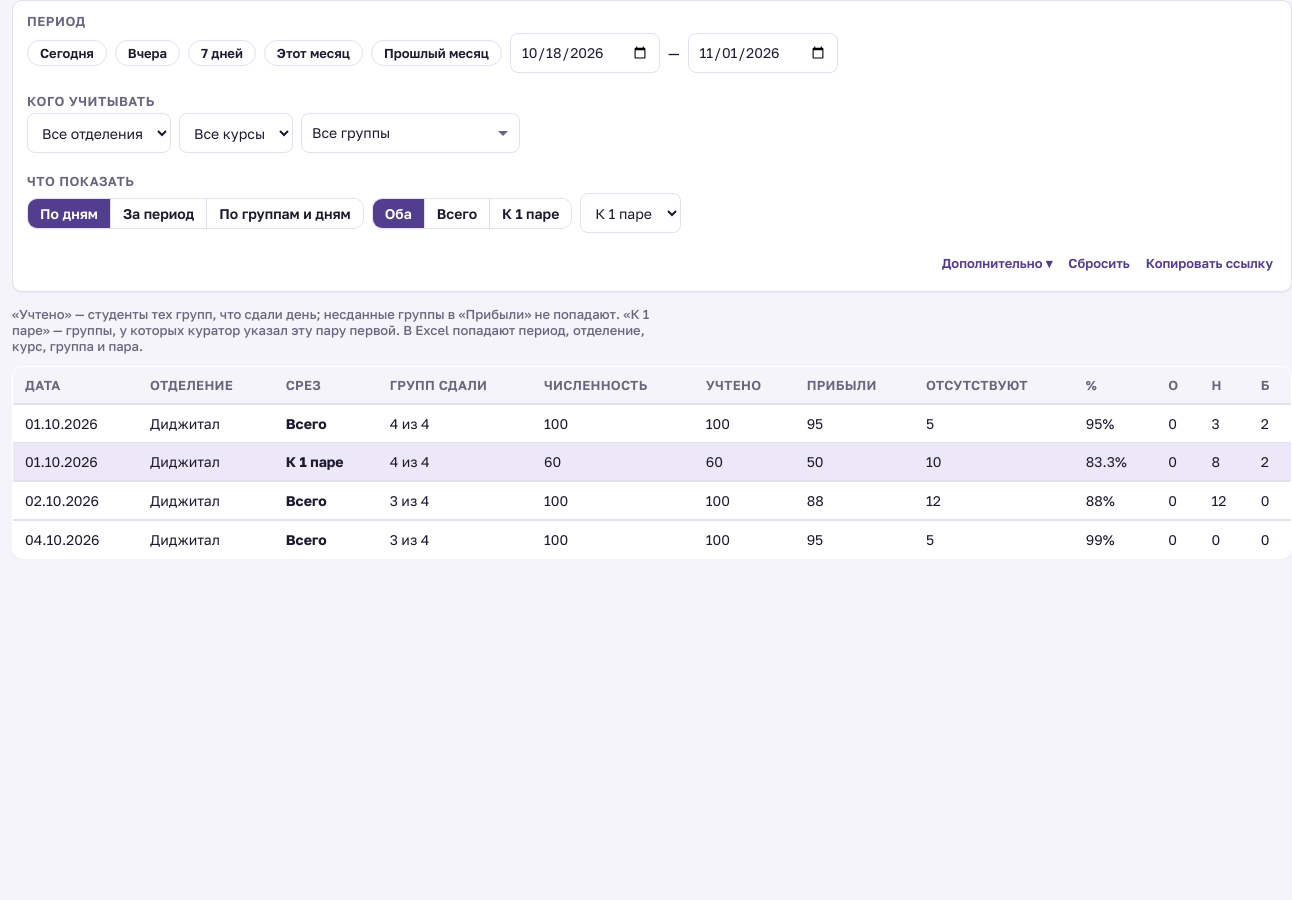
Test case: AttendanceSummaryView — отбор строк на экране › «Скрыть строки без данных» можно выключить
Click the button "Дополнительно ▾" at (997, 263), box [938,253,1056,273]
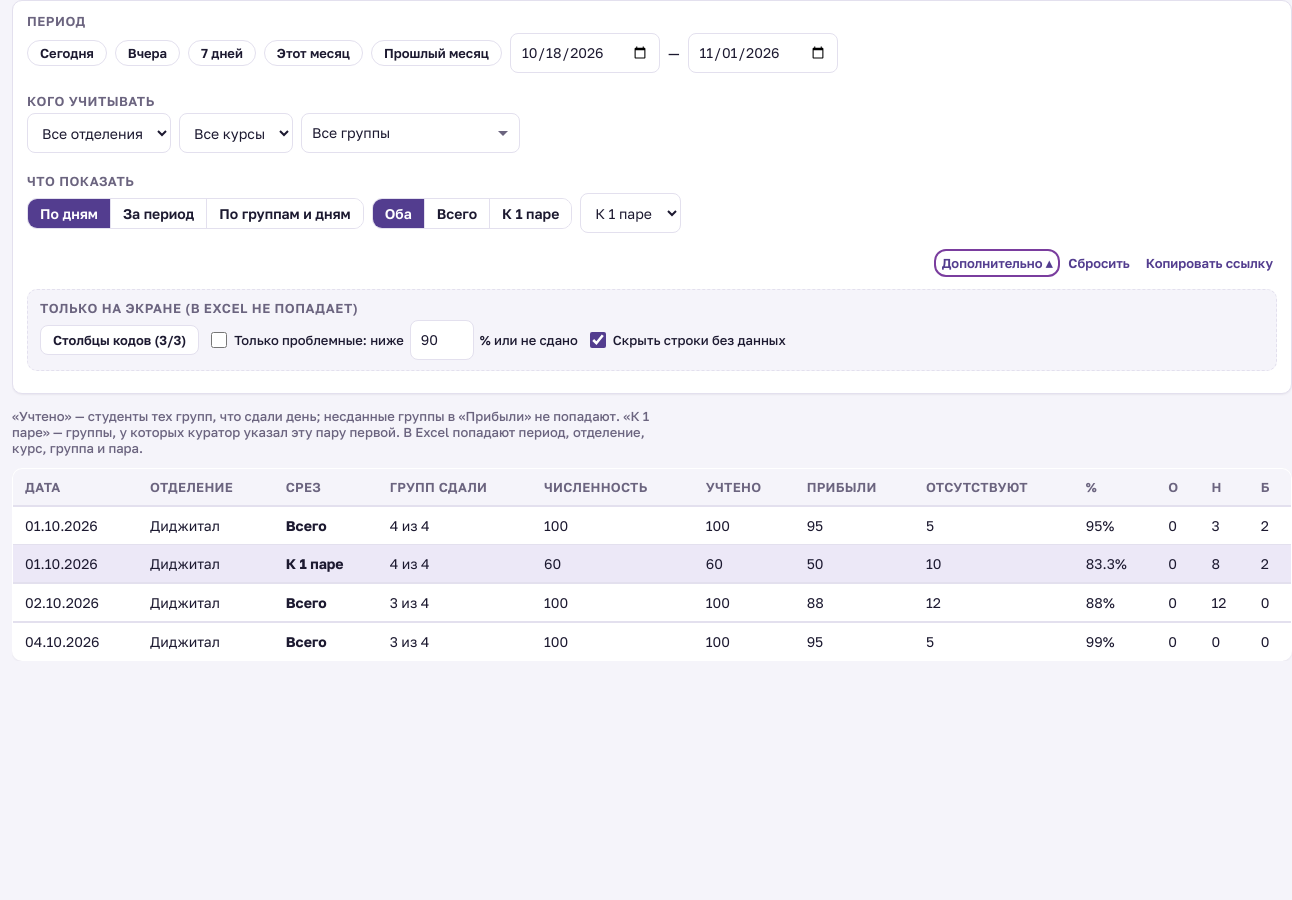
Click the checkbox labelled "Скрыть строки без данных" at (598, 340), box [590,332,606,348]
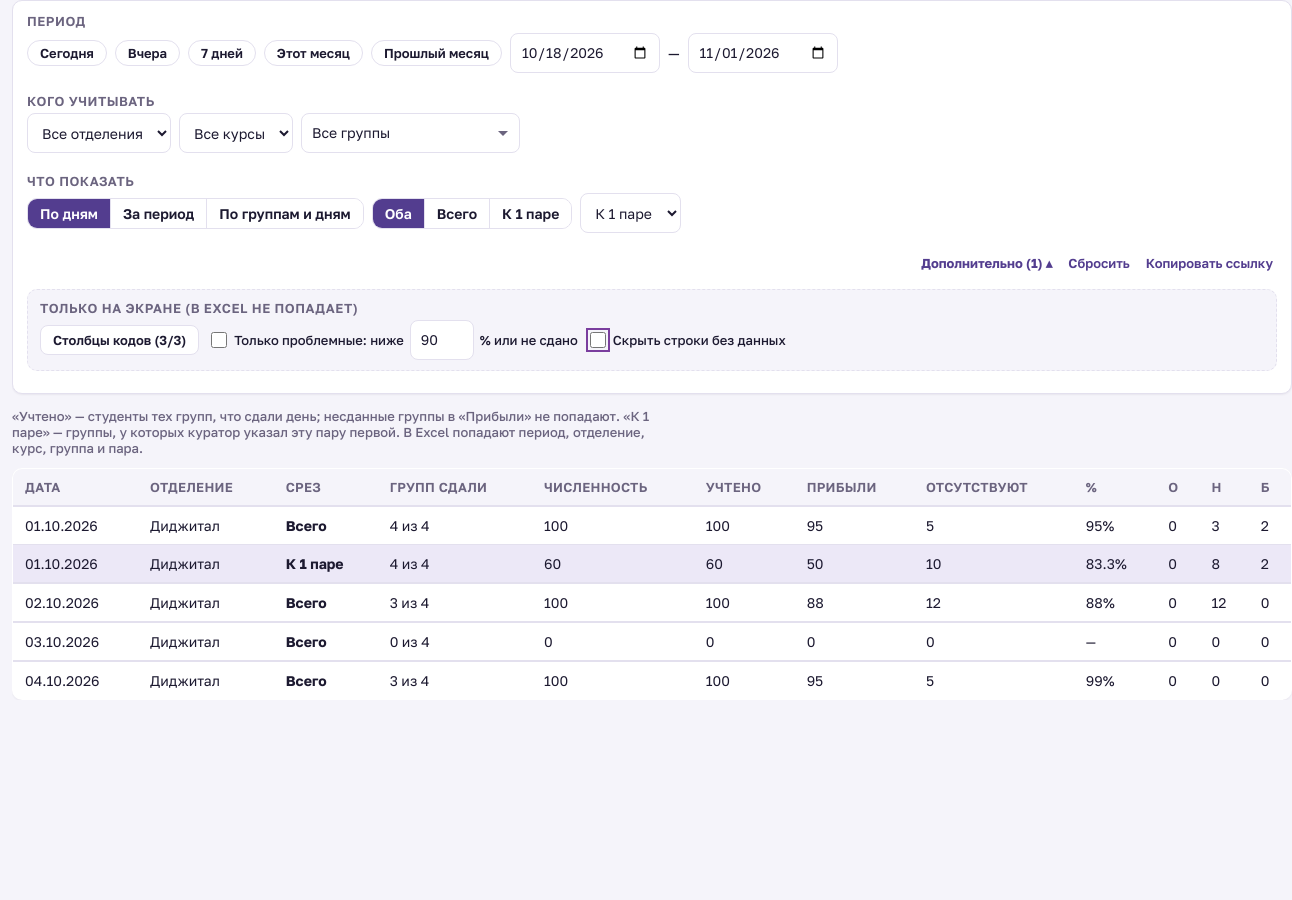
Expected: the text "03.10.2026" is shown, [12,622,138,661]
